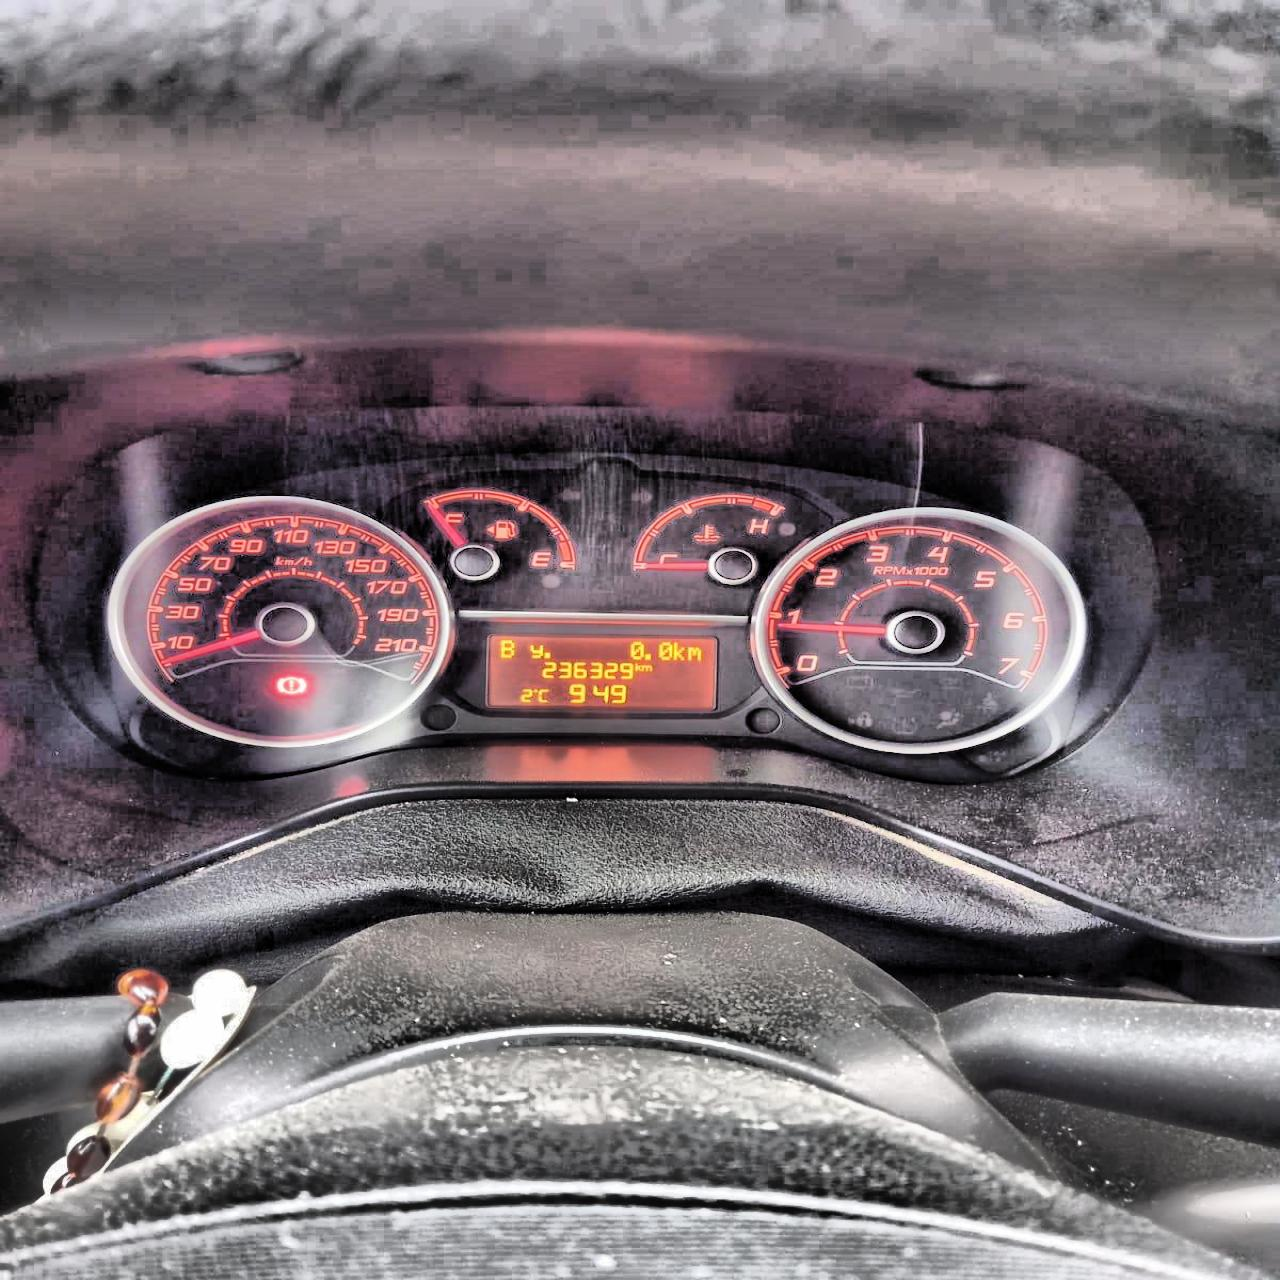-: (542, 652, 550, 659), (644, 653, 651, 659)
0: (628, 640, 645, 659), (656, 641, 672, 660)
2: (602, 661, 618, 679), (542, 660, 556, 678), (519, 688, 532, 702)
3: (587, 661, 602, 679), (557, 661, 571, 679)
4: (591, 683, 608, 702)
6: (572, 661, 586, 679)
9: (567, 683, 585, 702), (610, 683, 626, 703), (618, 662, 633, 679)
X: (499, 639, 515, 658), (672, 641, 685, 660), (686, 646, 701, 660), (527, 645, 543, 658), (537, 688, 549, 702), (641, 663, 652, 670), (634, 662, 641, 672)
odometer: (482, 631, 720, 712)
